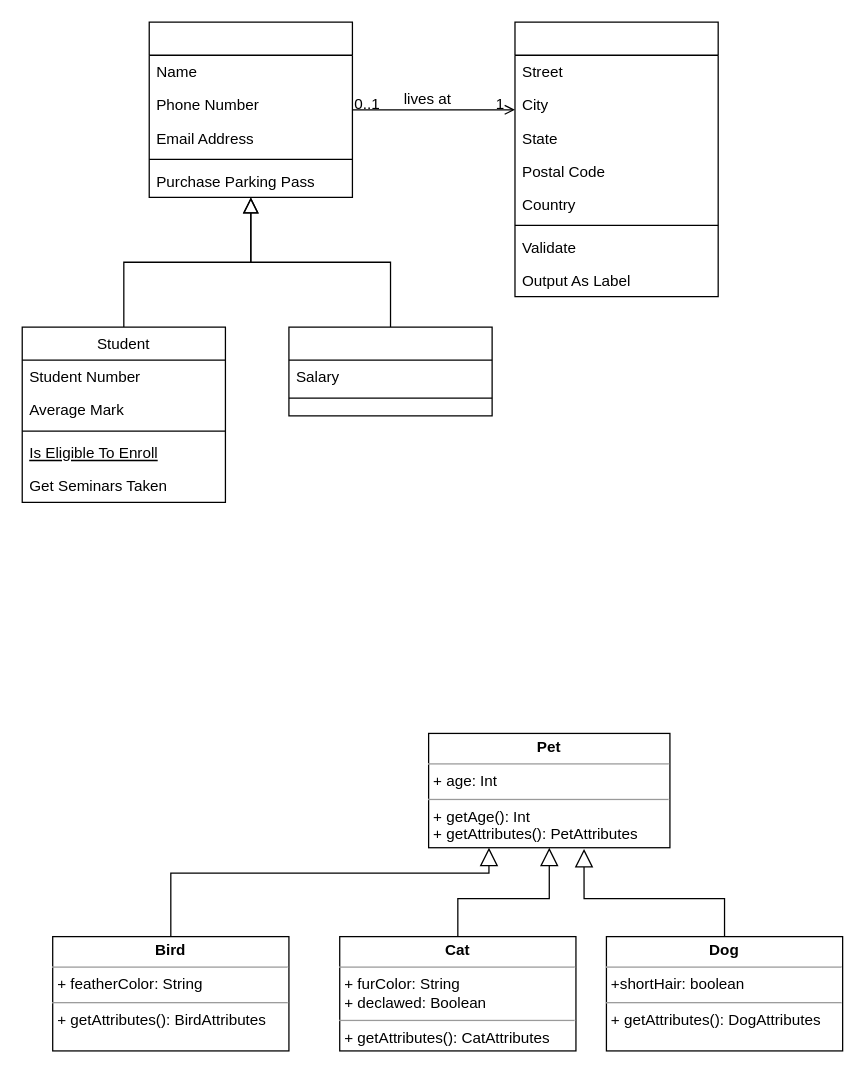
The diagram is 865 pixels wide and 1073 high, and some of its shapes have lost their labels. Here are the shapes that lost their labels. From the top down, the box of each, then its label:
(148, 21, 352, 197): Person
(514, 21, 718, 297): Address
(288, 326, 492, 416): Professor
